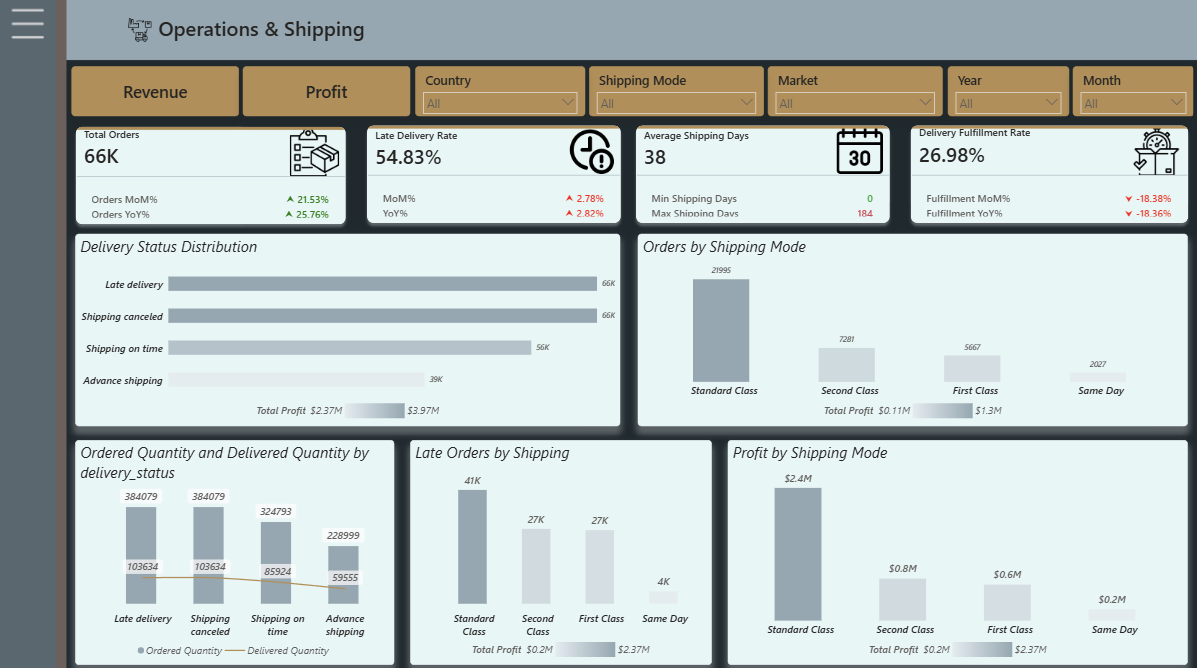

The page's visual inventory and layout, read from the dashboard file:
{"tool":"powerbi","page":{"name":"Operations & Shipping","canvas":[1920,1080],"ordinal":4},"visuals":[{"type":"slicer","fields":{"Values":["gold fact_orders_cleaned_v2.order_date.Variation.Date Hierarchy.Year"]},"box":[1517.3,106,194,80],"z":3000},{"type":"slicer","fields":{"Values":["gold fact_orders_cleaned_v2.order_date.Variation.Date Hierarchy.Month"]},"box":[1718,106,194,80],"z":4000},{"type":"slicer","fields":{"Values":["gold fact_orders_cleaned_v2.market"]},"box":[1230.7,106,280,80],"z":5000},{"type":"slicer","fields":{"Values":["gold fact_orders_cleaned_v2.shipping_mode"]},"box":[944,106,280,80],"z":6000},{"type":"slicer","fields":{"Values":["gold fact_orders_cleaned_v2.order_country"]},"box":[665.3,106,272,80],"z":7000},{"type":"cardVisual","title":"Total Products Card","fields":{"Data":["Operations & Shipping Measure.Total_Orders"]},"box":[106,186,466,190],"z":9000},{"type":"actionButton","title":"Revenue Button","box":[116,106,268,80],"z":14000},{"type":"actionButton","title":"Profit Button","box":[390.7,106,268,80],"z":15000},{"type":"textbox","box":[250,18,366,60],"z":16000},{"type":"image","box":[198,28,54,40],"z":17000},{"type":"clusteredBarChart","title":"Delivery Status Distribution","fields":{"Category":["gold dim_shipping.delivery_status"],"Y":["Measure's Table.Total Orders"]},"box":[122,374,872,308],"z":18000},{"type":"clusteredColumnChart","title":"Orders by Shipping Mode","fields":{"Y":["Measure's Table.Total Orders"],"Category":["gold dim_shipping.shipping_mode"]},"box":[1022,374,880,308],"z":19000},{"type":"clusteredColumnChart","title":"Late Orders by Shipping","fields":{"Y":["Measure's Table.Late Orders"],"Category":["gold dim_shipping.shipping_mode"]},"box":[658,704,482,360],"z":20000},{"type":"lineClusteredColumnComboChart","fields":{"Category":["gold dim_shipping.delivery_status"],"Y":["Operations & Shipping Measure.Ordered Quantity"],"Y2":["Operations & Shipping Measure.Delivered Quantity"]},"box":[122,704,510,360],"z":21000},{"type":"cardVisual","title":"Total Products Card","fields":{"Data":["Executive Measure.Late Delivery Rate %","Operations & Shipping Measure.Average Shipping Days"]},"box":[572,184,870,190],"z":22000},{"type":"clusteredColumnChart","title":"Revenue by Shipping Mode","fields":{"Category":["gold dim_shipping.shipping_mode"],"Y":["Executive Measure.Total Revenue"]},"box":[1166,704,736,360],"z":23000},{"type":"cardVisual","title":"Total Products Card","fields":{"Data":["Operations & Shipping Measure.Delivery Fulfillment %"]},"box":[1442,184,478,190],"z":27000},{"type":"actionButton","title":"Menu Button","box":[15,7,60,60],"z":27500}]}

Visuals, with their boxes in screenshot pixels (x1, y1, x2, y2):
slicer - gold fact_orders_cleaned_v2.order_date.Variation.Date Hierarchy.Year: [left=949, top=61, right=1071, bottom=111]
slicer - gold fact_orders_cleaned_v2.order_date.Variation.Date Hierarchy.Month: [left=1076, top=61, right=1196, bottom=111]
slicer - gold fact_orders_cleaned_v2.market: [left=768, top=61, right=945, bottom=111]
slicer - gold fact_orders_cleaned_v2.shipping_mode: [left=587, top=61, right=764, bottom=111]
slicer - gold fact_orders_cleaned_v2.order_country: [left=411, top=61, right=583, bottom=111]
"Total Products Card" cardVisual: [left=58, top=111, right=352, bottom=231]
"Revenue Button" actionButton: [left=64, top=61, right=233, bottom=111]
"Profit Button" actionButton: [left=237, top=61, right=407, bottom=111]
textbox: [left=149, top=5, right=380, bottom=43]
image: [left=116, top=11, right=150, bottom=37]
"Delivery Status Distribution" clusteredBarChart: [left=68, top=230, right=618, bottom=424]
"Orders by Shipping Mode" clusteredColumnChart: [left=636, top=230, right=1192, bottom=424]
"Late Orders by Shipping" clusteredColumnChart: [left=406, top=438, right=711, bottom=666]
lineClusteredColumnComboChart - gold dim_shipping.delivery_status x Operations & Shipping Measure.Ordered Quantity: [left=68, top=438, right=390, bottom=666]
"Total Products Card" cardVisual: [left=352, top=110, right=901, bottom=230]
"Revenue by Shipping Mode" clusteredColumnChart: [left=727, top=438, right=1192, bottom=666]
"Total Products Card" cardVisual: [left=901, top=110, right=1196, bottom=230]
"Menu Button" actionButton: [left=0, top=0, right=38, bottom=36]
